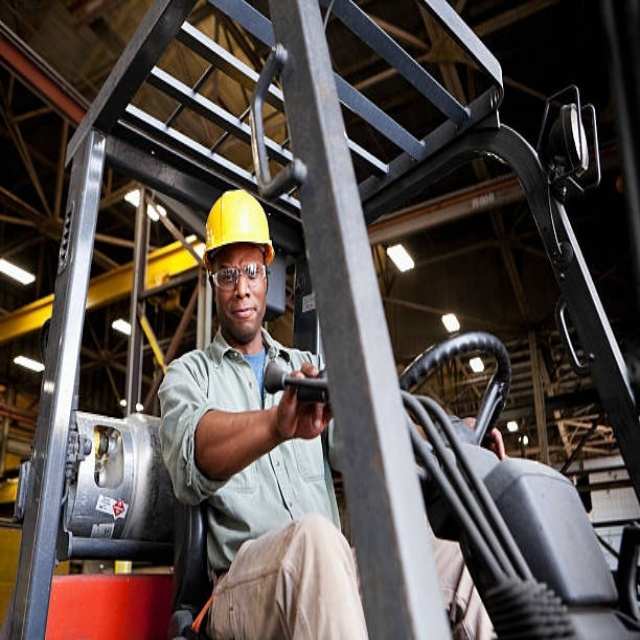Gafas: (212, 264, 267, 289)
Sin_guantes: (275, 363, 331, 442), (480, 425, 506, 461)
Sin_mascara: (224, 300, 261, 333)
